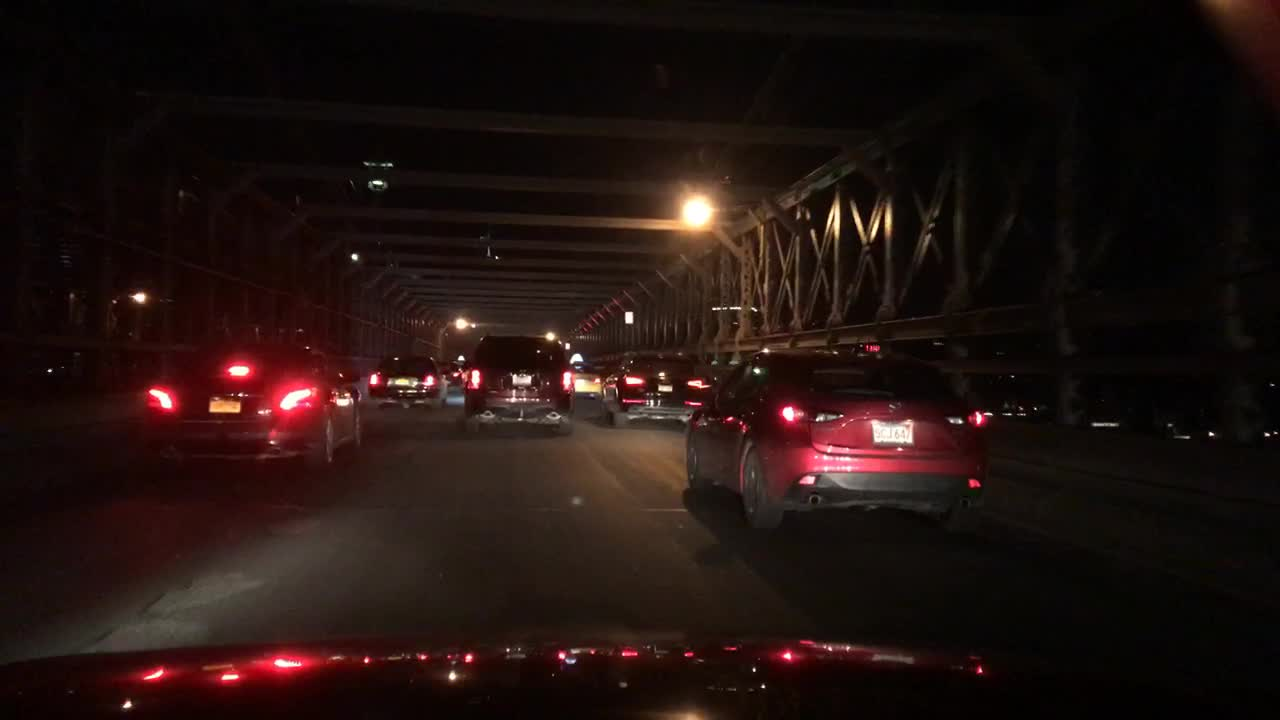car: (684, 340, 991, 530), (142, 342, 364, 469), (461, 331, 575, 435), (600, 346, 718, 433), (366, 353, 445, 408), (568, 355, 606, 401), (441, 360, 464, 385)
